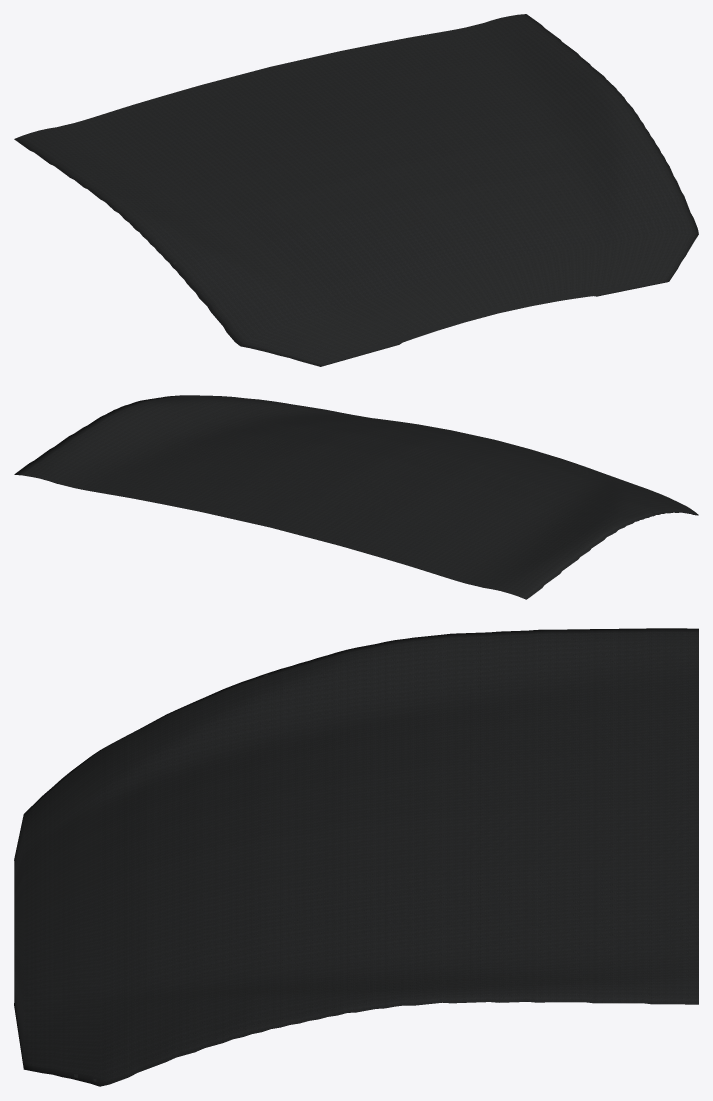
File: DT78_bonnet_wrap_carbon.glb
The picture shows the model from 3 angles, top to bottom: view 1: azimuth 30°, elevation 25°; view 2: azimuth 150°, elevation 25°; view 3: azimuth 270°, elevation 25°; orthographic projection. The views are drawn at different scales.
Parts seen in each view (by area): view 1: MOD_ND_DT78_wrap; view 2: MOD_ND_DT78_wrap; view 3: MOD_ND_DT78_wrap.
Boxes of the visible parts, x1,y1,x2,y2 form: MOD_ND_DT78_wrap: [14, 14, 698, 366]; MOD_ND_DT78_wrap: [14, 395, 698, 599]; MOD_ND_DT78_wrap: [14, 628, 698, 1086].
Bounding box in the file's own units: 1.42 × 0.2475 × 1.1.
Materials: 1 (1 with a texture image).
